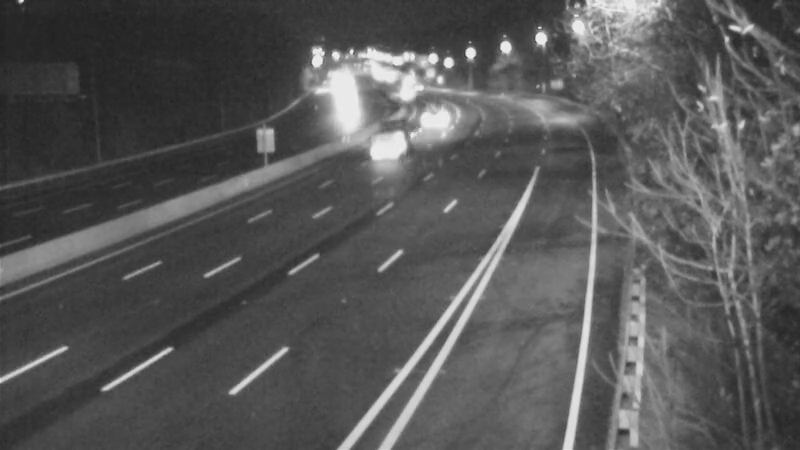vehicle: (381, 69, 431, 119), (417, 89, 467, 139), (375, 108, 425, 158)
